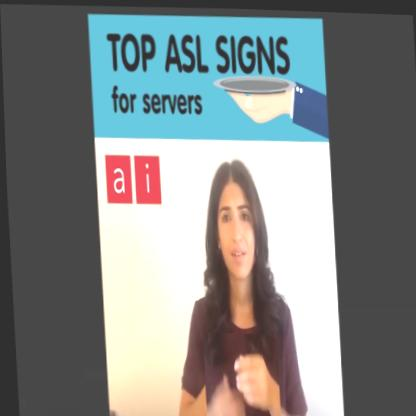HowAreYou: (199, 330, 278, 416)
